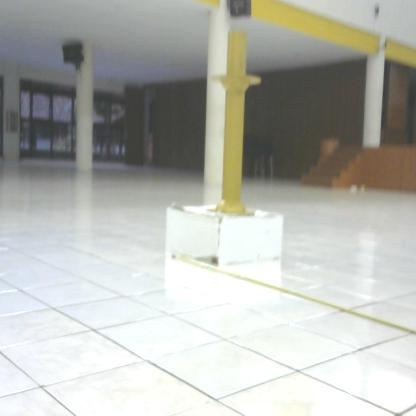pole: (209, 31, 270, 225)
